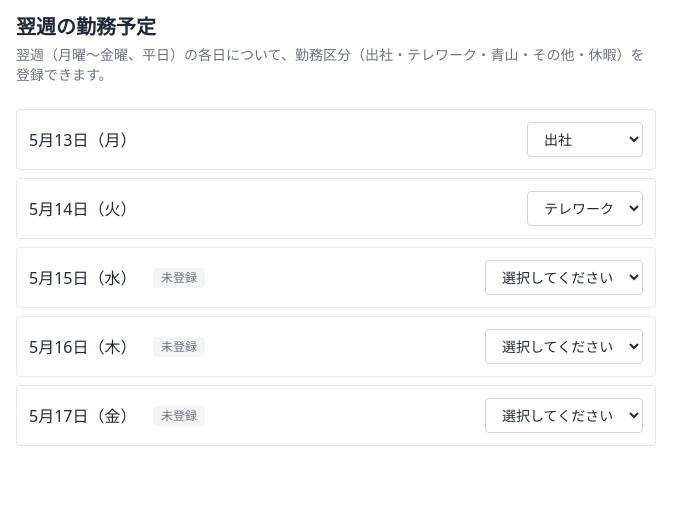
Test: ScheduleEditor › 保存失敗時は日本語エラーを表示しつつ、既存の表示（平日 5 日分）を保持する
The image size is (673, 517).
Expected: the dropdown named "5月13日（月）の勤務区分" is shown, [527,122,643,157]
Select "テレワーク" in the dropdown named "5月15日（水）の勤務区分" at {"x": 564, "y": 278}, box [485,260,643,295]
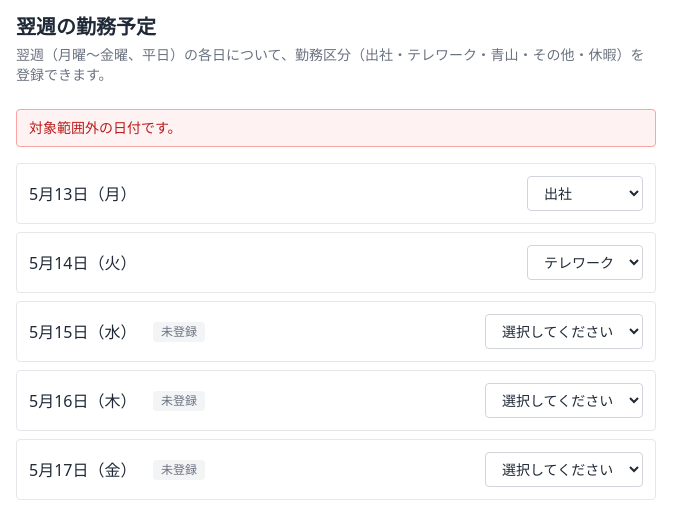
Expected: the number of dropdowns is 5, [527,176,643,211]; [527,245,643,280]; [485,314,643,349]; [485,383,643,418]; [485,452,643,487]
Now the message reads "対象範囲外の日付です。", box [29,118,182,137]
